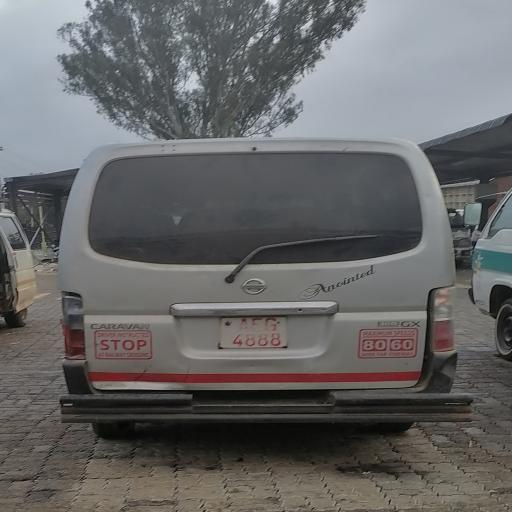number-plates: (220, 308, 287, 350)
